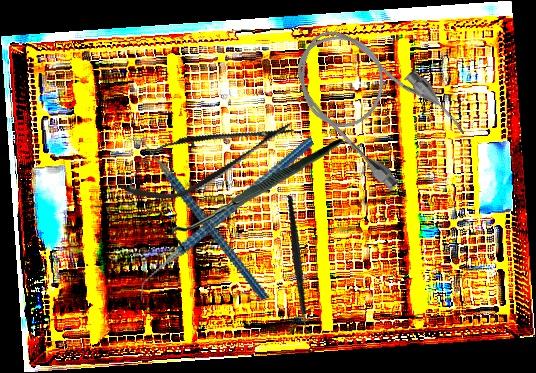Cannula: (273, 3, 473, 201)
Chopper: (108, 136, 345, 303), (124, 112, 270, 325), (256, 194, 346, 338)
Hook Surgical: (169, 138, 347, 253)
Micro Scissor: (111, 99, 303, 216)
